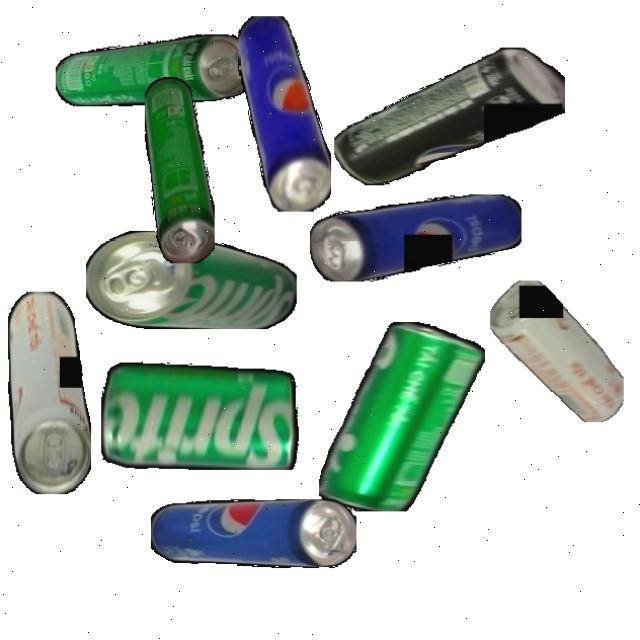debris: (334, 47, 565, 185), (319, 321, 485, 511), (100, 327, 299, 470), (86, 230, 297, 329), (489, 280, 624, 422), (310, 194, 521, 282), (237, 15, 331, 212), (7, 291, 91, 494), (150, 499, 356, 568), (55, 34, 251, 106), (143, 76, 214, 263)
